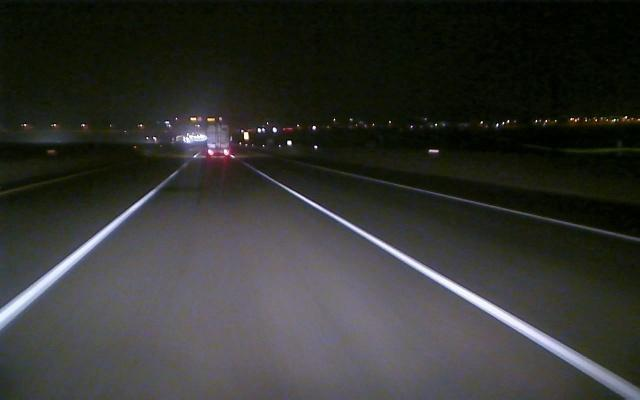lane: (272, 178, 636, 396), (3, 188, 155, 328), (370, 178, 640, 243), (0, 169, 99, 196)
